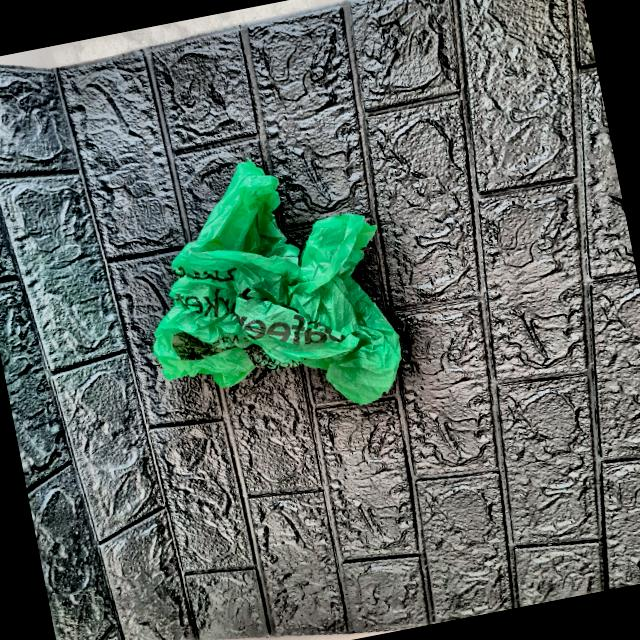plastic bag: (103, 134, 426, 452)
